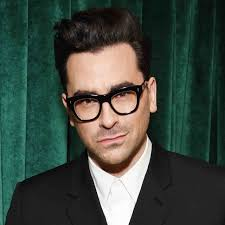Glasses: (62, 78, 147, 125)
